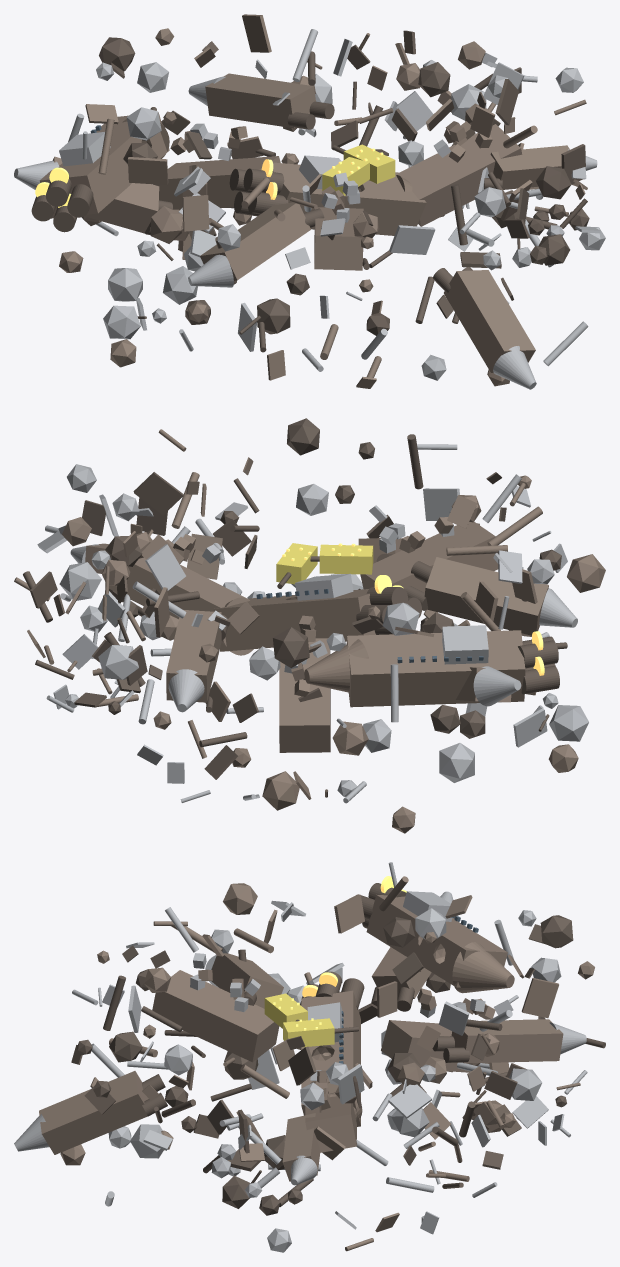
The model's file is space_ship_graveyard.glb.
3 renders of one model, top to bottom at view 1: azimuth 30°, elevation 25°; view 2: azimuth 150°, elevation 25°; view 3: azimuth 270°, elevation 25°, orthographic. The views are drawn at different scales.
Parts seen in each view (by area): view 1: DerelictFrigate.004, CargoShip.001, DerelictFrigate.001, DerelictCruiser, DerelictFrigate.003, DerelictCruiser.001, CargoShip.002, CargoShip, DerelictFrigate.002, DerelictFrigate, Cone.006, Debris_40.002 (+43 smaller); view 2: DerelictCruiser.001, DerelictCruiser, DerelictFrigate.003, CargoShip.002, CargoShip, DerelictFrigate.001, CargoShip.001, Cube.009, Cone.001, SalvageShip.001, Cone.004, SalvageShip (+41 smaller); view 3: CargoShip, DerelictFrigate.004, DerelictCruiser.001, DerelictFrigate.001, DerelictCruiser, Cone.001, CargoShip.002, DerelictFrigate.003, CargoShip.001, DerelictFrigate, SalvageShip, DerelictFrigate.002 (+29 smaller).
Part boxes in pixels (x1=…): DerelictFrigate.004: x1=444, y1=270, x2=535, y2=372; CargoShip.001: x1=398, y1=124, x2=522, y2=226; DerelictFrigate.001: x1=205, y1=73, x2=315, y2=128; DerelictCruiser: x1=272, y1=162, x2=426, y2=235; DerelictFrigate.003: x1=200, y1=202, x2=310, y2=280; DerelictCruiser.001: x1=39, y1=112, x2=169, y2=218; CargoShip.002: x1=153, y1=156, x2=280, y2=209; CargoShip: x1=314, y1=207, x2=363, y2=270; DerelictFrigate.002: x1=53, y1=156, x2=159, y2=233; DerelictFrigate: x1=490, y1=145, x2=569, y2=189; Cone.006: x1=493, y1=346, x2=536, y2=389; Debris_40.002: x1=389, y1=225, x2=435, y2=254; DerelictCruiser.001: x1=346, y1=630, x2=525, y2=707; DerelictCruiser: x1=213, y1=589, x2=375, y2=651; DerelictFrigate.003: x1=424, y1=557, x2=548, y2=635; CargoShip.002: x1=279, y1=638, x2=330, y2=752; CargoShip: x1=360, y1=521, x2=498, y2=592; DerelictFrigate.001: x1=166, y1=610, x2=221, y2=702; CargoShip.001: x1=109, y1=557, x2=247, y2=619; Cube.009: x1=442, y1=625, x2=488, y2=664; Cone.001: x1=304, y1=639, x2=368, y2=692; SalvageShip.001: x1=319, y1=544, x2=373, y2=574; Cone.004: x1=473, y1=666, x2=521, y2=706; SalvageShip: x1=276, y1=543, x2=317, y2=584; CargoShip: x1=152, y1=970, x2=279, y2=1062; DerelictFrigate.004: x1=39, y1=1071, x2=148, y2=1154; DerelictCruiser.001: x1=366, y1=894, x2=507, y2=989; DerelictFrigate.001: x1=451, y1=1019, x2=563, y2=1063; DerelictCruiser: x1=301, y1=990, x2=360, y2=1126; Cone.001: x1=452, y1=942, x2=514, y2=993; CargoShip.002: x1=381, y1=1020, x2=489, y2=1072; DerelictFrigate.003: x1=211, y1=953, x2=283, y2=1008; CargoShip.001: x1=305, y1=1096, x2=356, y2=1152; DerelictFrigate: x1=282, y1=1113, x2=320, y2=1181; SalvageShip: x1=283, y1=1018, x2=334, y2=1047; DerelictFrigate.002: x1=371, y1=918, x2=453, y2=998.
Bounding box in the file's own units: 430 × 167 × 446.
